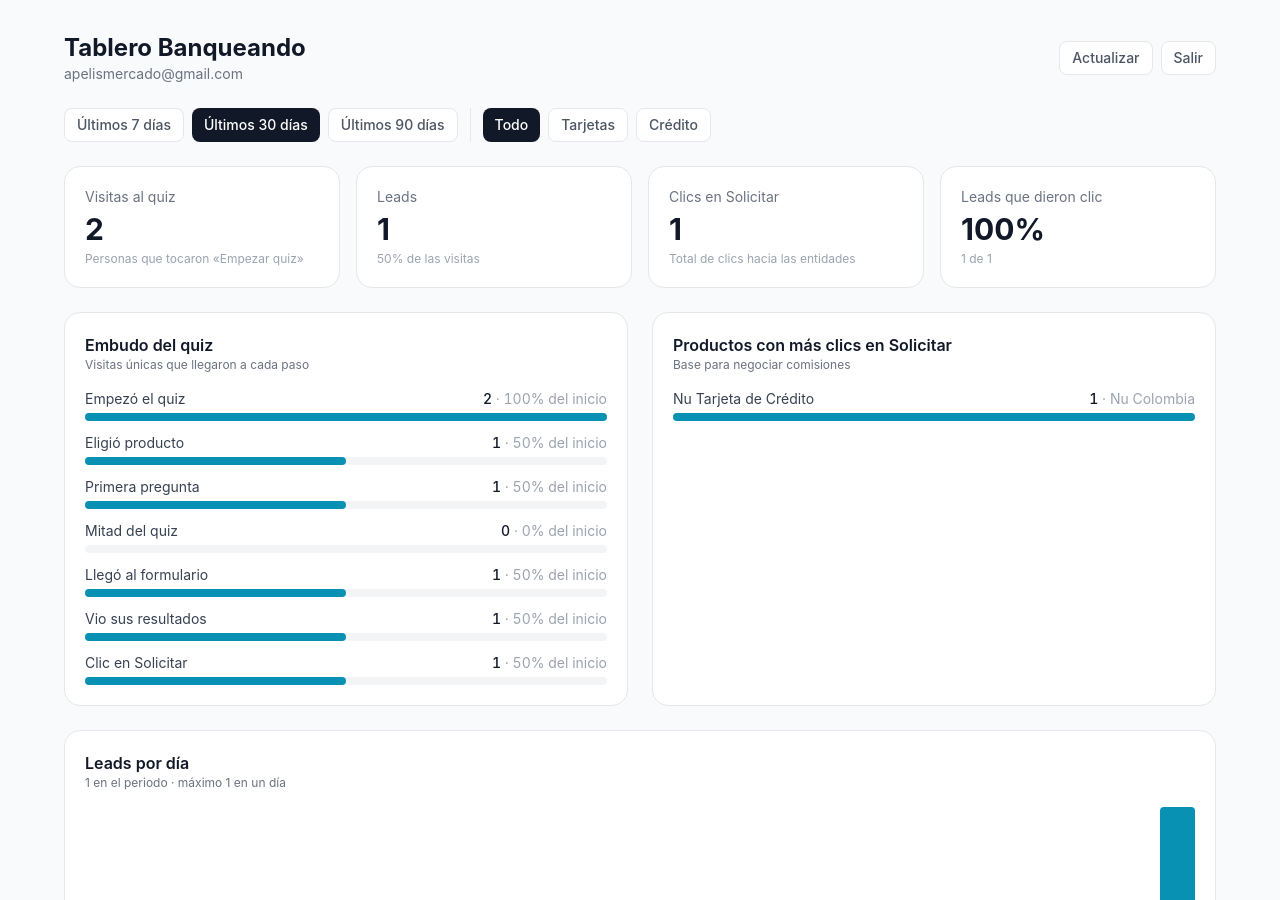
Test case: tablero /admin › muestra KPIs, embudo, productos y leads al administrador
Expected: the heading "Tablero Banqueando" is shown, [64,32,306,64]
Expected: the text "Visitas al quiz" is shown, [85,188,176,205]
Click the button "Tarjetas": (588, 125) [548,108,628,142]
(page scrolled)
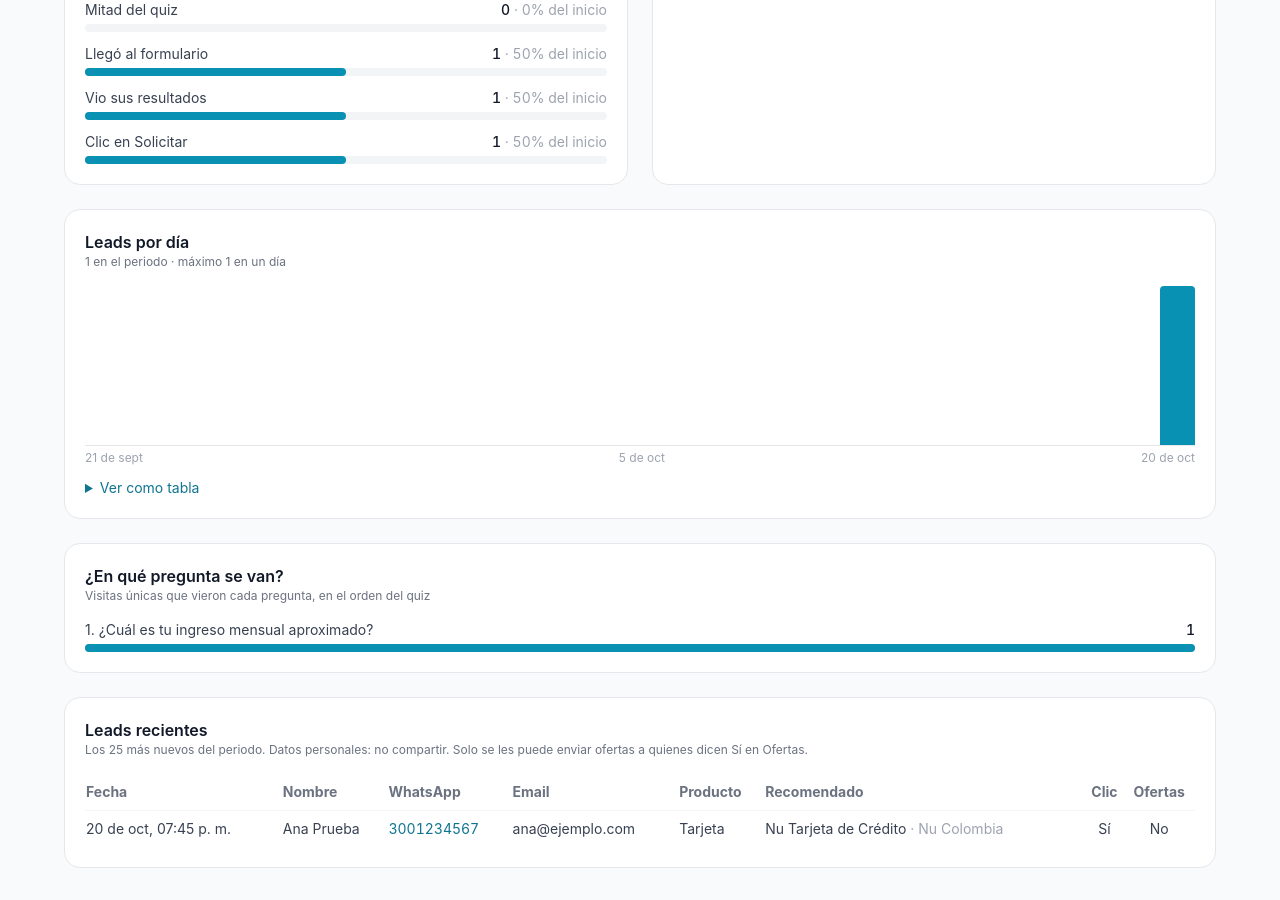
Now the text "1. ¿Cuál es tu ingreso mensual aproximado?" is shown, box [85,620,373,640]
